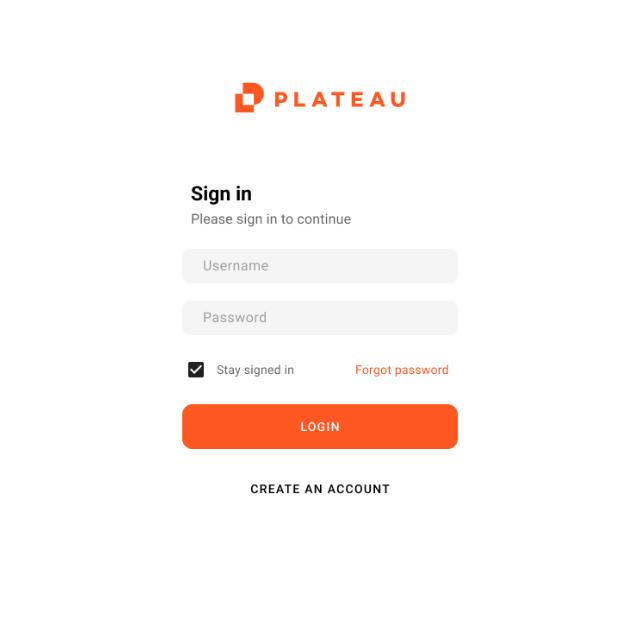QLabel: (188, 213, 352, 227), (250, 483, 390, 495), (191, 183, 253, 205), (354, 364, 450, 376), (215, 364, 295, 376), (298, 421, 342, 432)
VBtn: (182, 402, 458, 450)
VCheckbox: (188, 360, 205, 380)
VImg: (232, 80, 408, 116)
VTextField: (181, 247, 459, 285), (180, 300, 462, 336)
